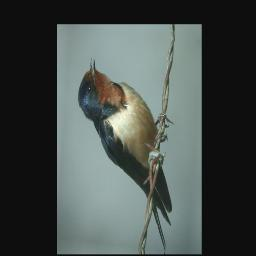Swallow: (68, 55, 182, 252)
